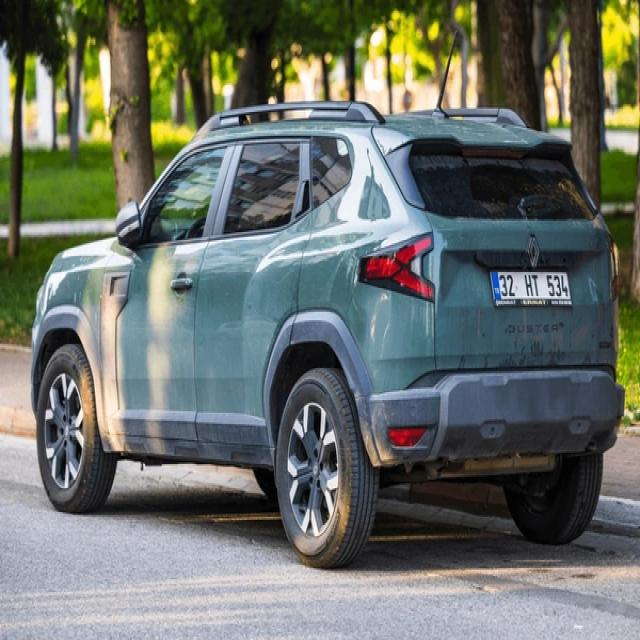renault: (524, 233, 542, 271)
